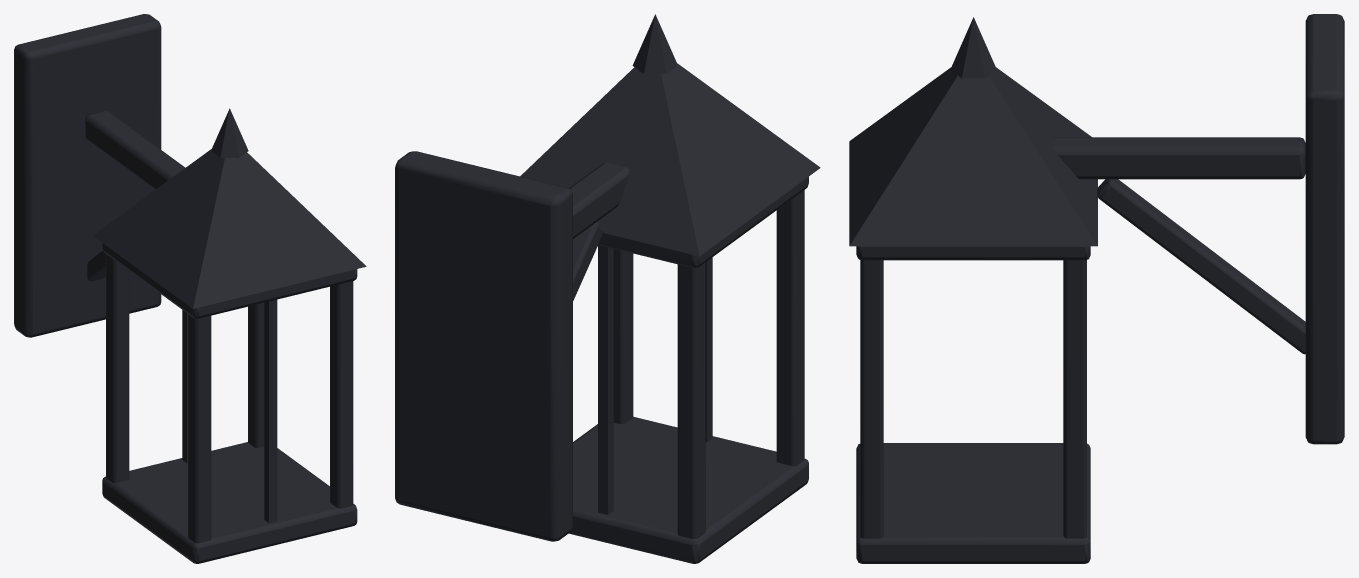
File: garden_lantern.fbx
3 views of the same model, side by side, from view 1: azimuth 30°, elevation 25°; view 2: azimuth 150°, elevation 25°; view 3: azimuth 270°, elevation 25° (orthographic). The views are drawn at different scales.
Parts seen in each view (by area): view 1: garden_lantern; view 2: garden_lantern; view 3: garden_lantern.
Boxes of the visible parts, x1,y1,x2,y2 form: garden_lantern: (14, 14, 366, 563); garden_lantern: (395, 14, 820, 563); garden_lantern: (849, 14, 1344, 563).
Bounding box in the file's own units: 0.1273 × 0.2536 × 0.2825.
